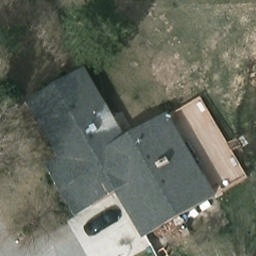car: (82, 207, 113, 238)
